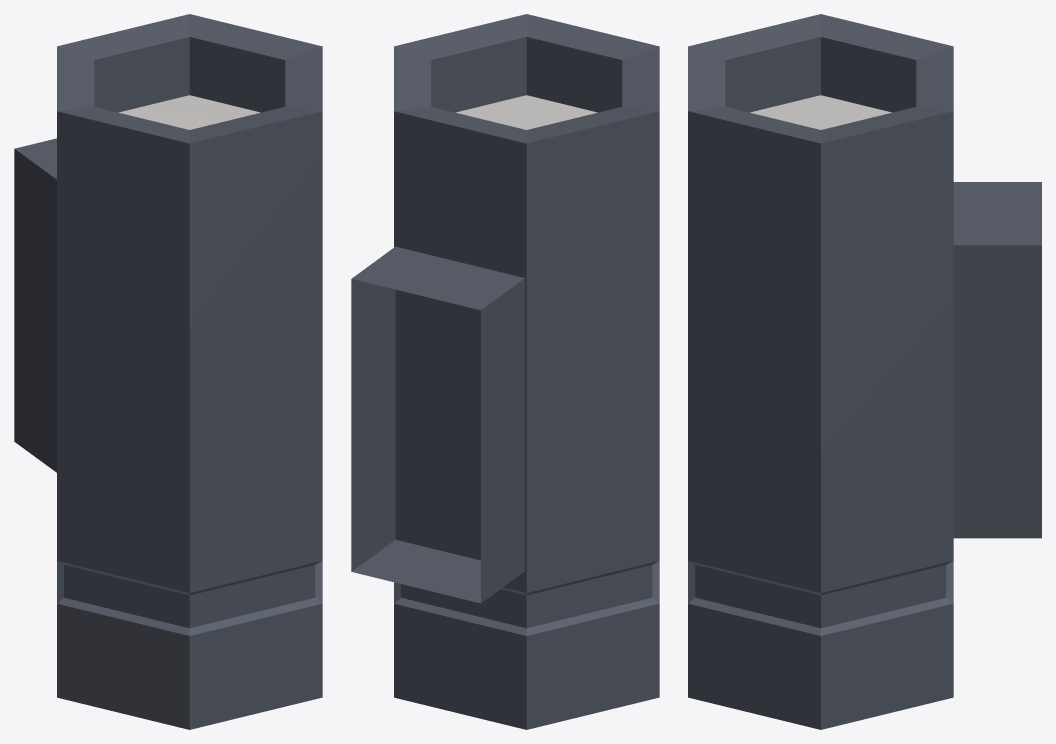
The model's file is g_o_GarageWallLamp.fbx.
3 views of the same model, side by side, from view 1: azimuth 30°, elevation 25°; view 2: azimuth 150°, elevation 25°; view 3: azimuth 270°, elevation 25° (orthographic).
Parts seen in each view (by area): view 1: garage_wall_lamp; view 2: garage_wall_lamp; view 3: garage_wall_lamp.
Boxes of the visible parts, x1,y1,x2,y2 form: garage_wall_lamp: [14, 14, 322, 729]; garage_wall_lamp: [351, 14, 659, 729]; garage_wall_lamp: [688, 14, 1041, 729].
Bounding box in the file's own units: 0.1394 × 0.2941 × 0.1608.
